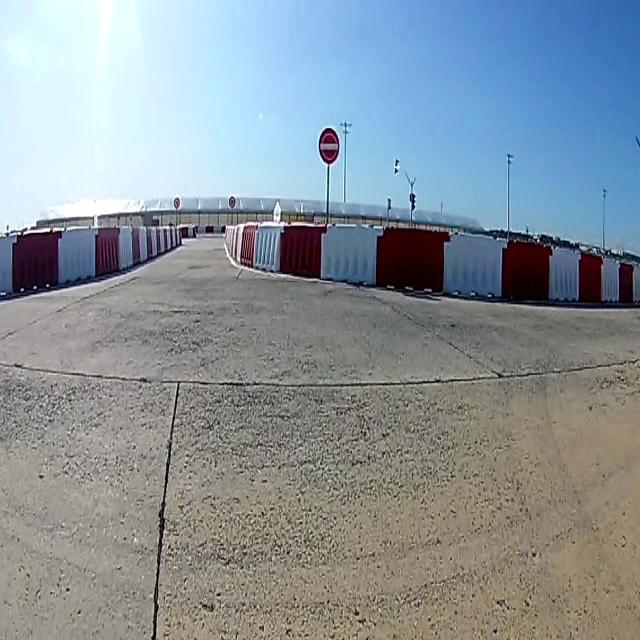girisyok: (320, 130, 339, 160)
